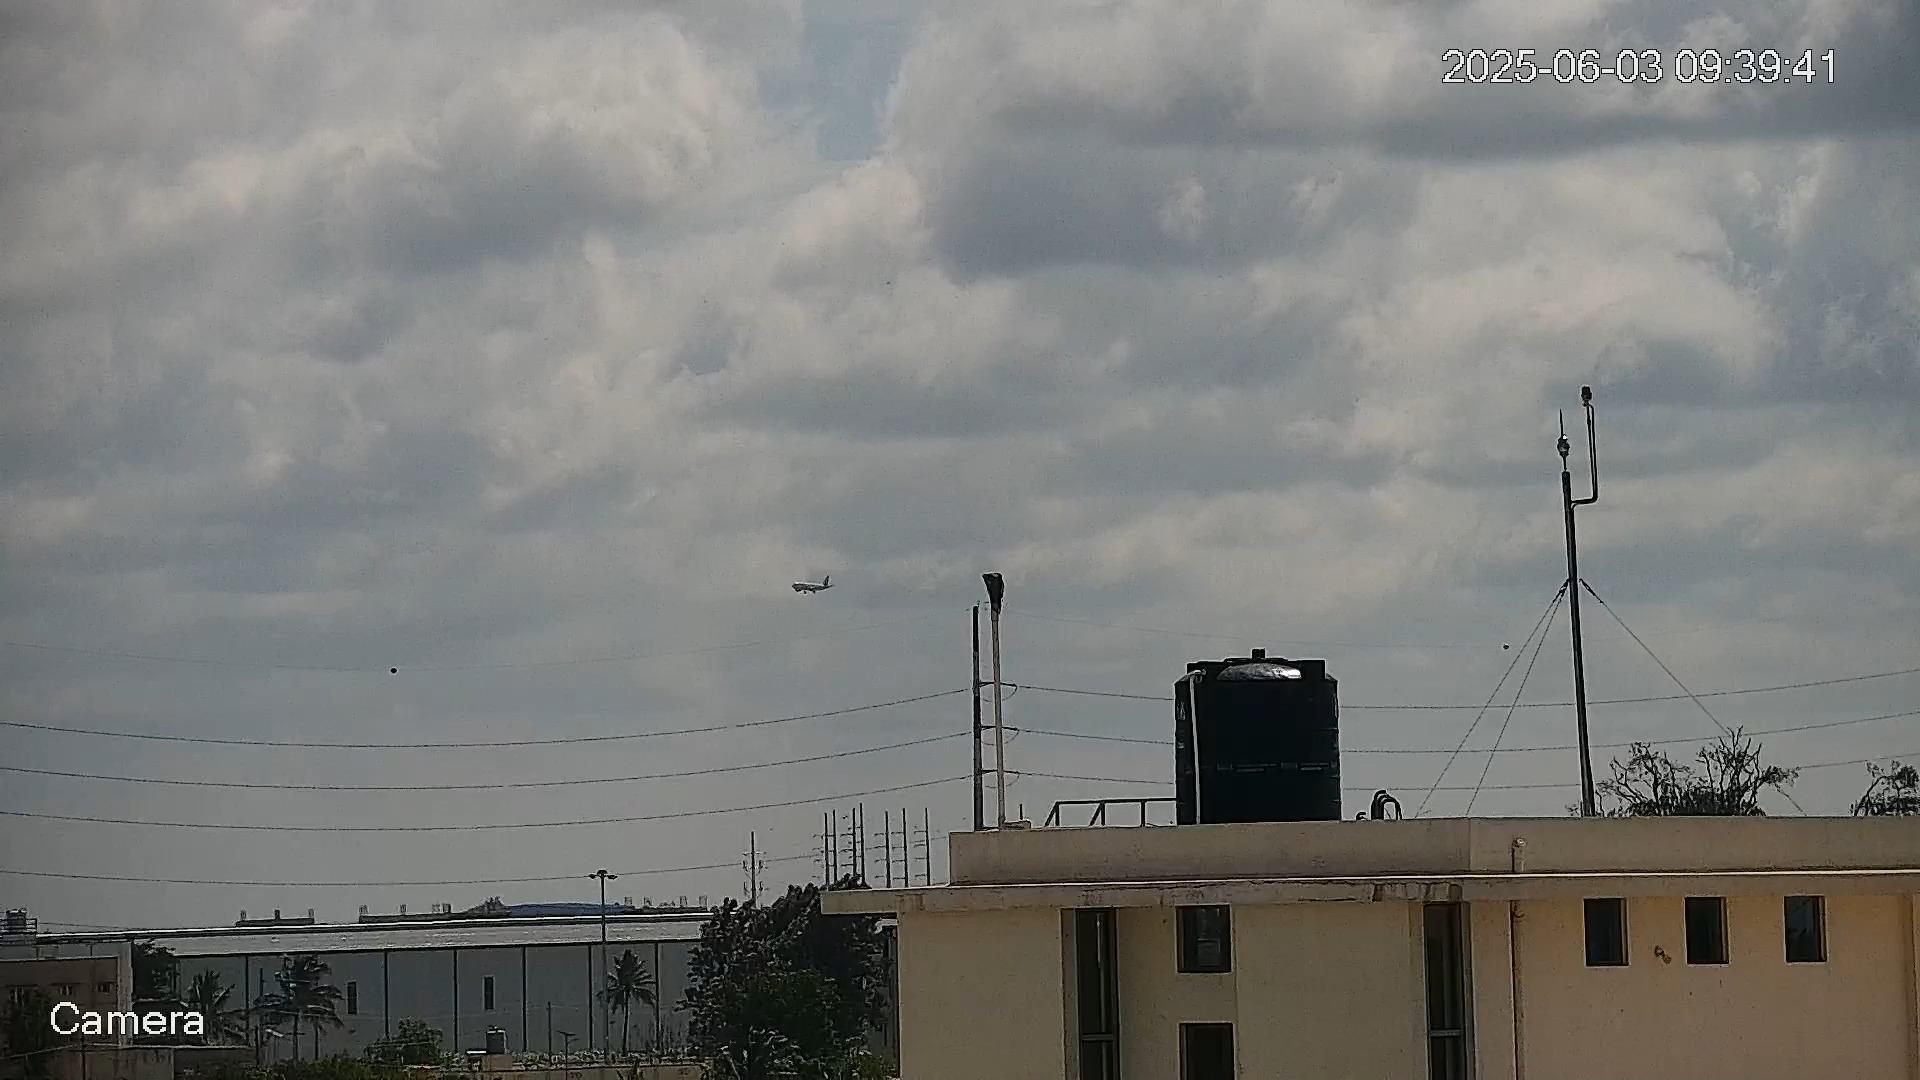Aircraft: (789, 570, 835, 595)
